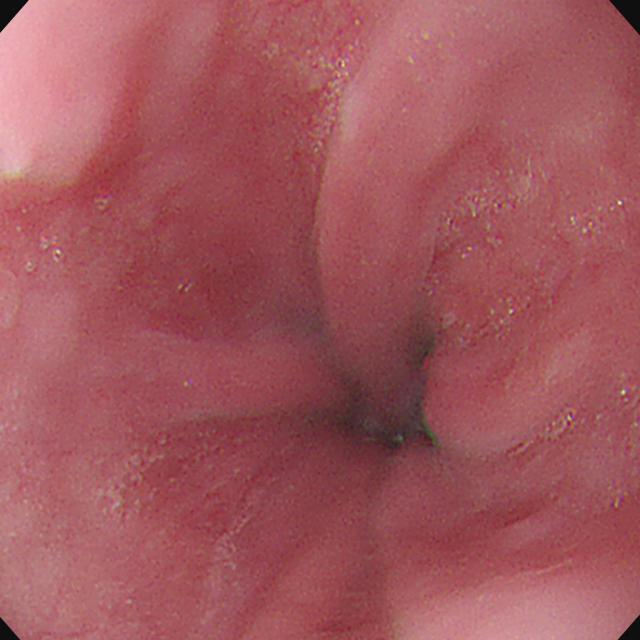J: (262, 40, 341, 155), (66, 436, 167, 525), (193, 518, 253, 628), (468, 160, 543, 226)
